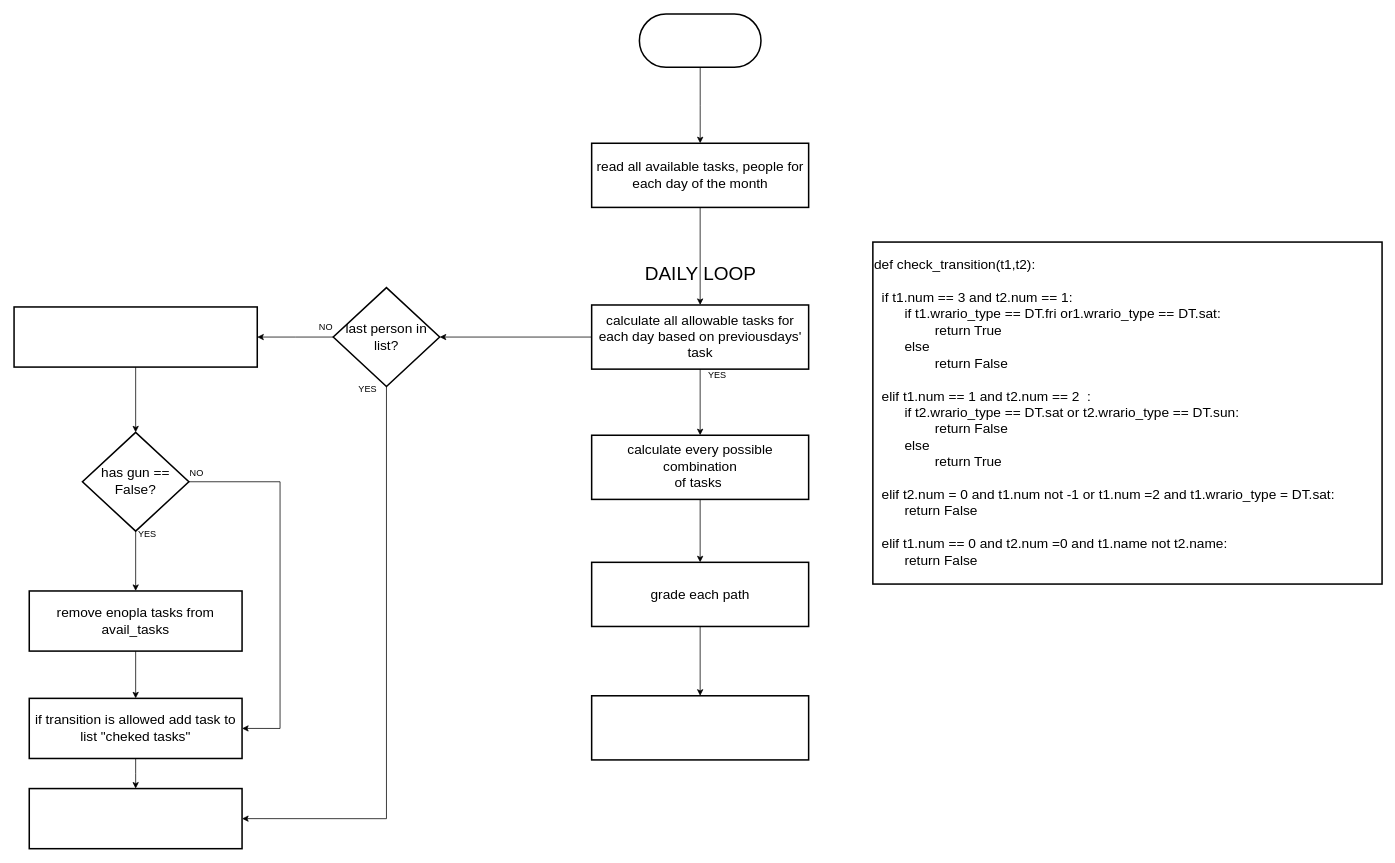
This 1395x863 diagram has some shape labels left out. The shapes that lost their labels are listed below. From the top down, each one's centre as x and y in pixels, then its label:
the point at 699,40: Αρχη
the point at 135,336: avail_tasks = month.get_avail_task
the point at 700,727: let algorith do it's job
the point at 135,818: return checked_tasks
